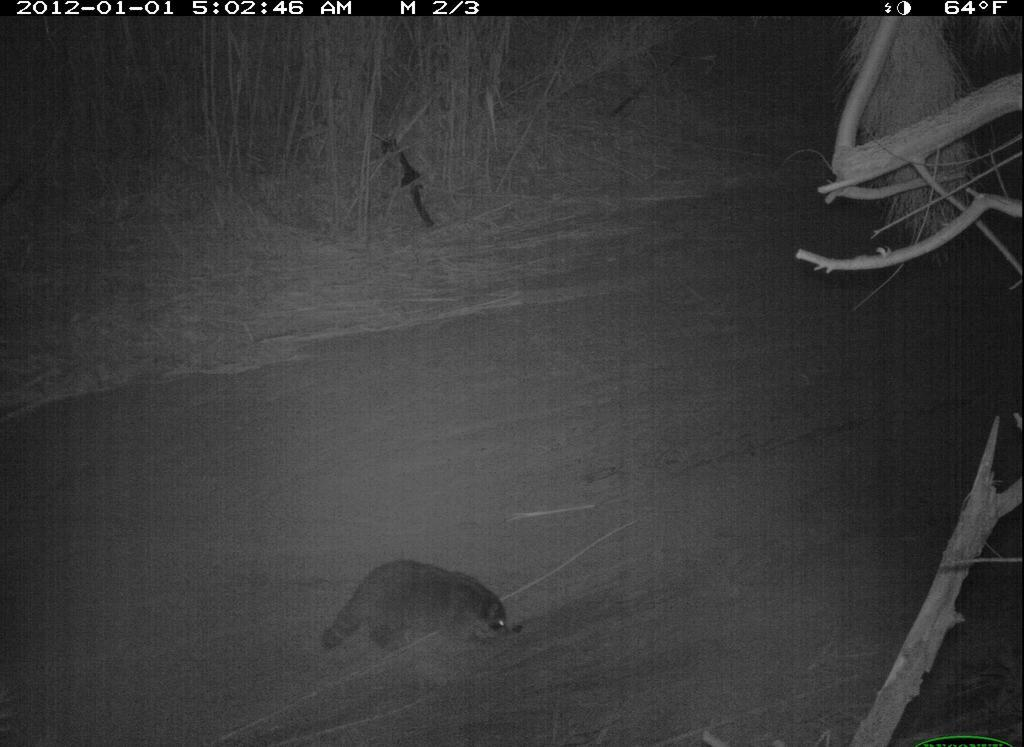raccoon: (317, 556, 521, 664)
